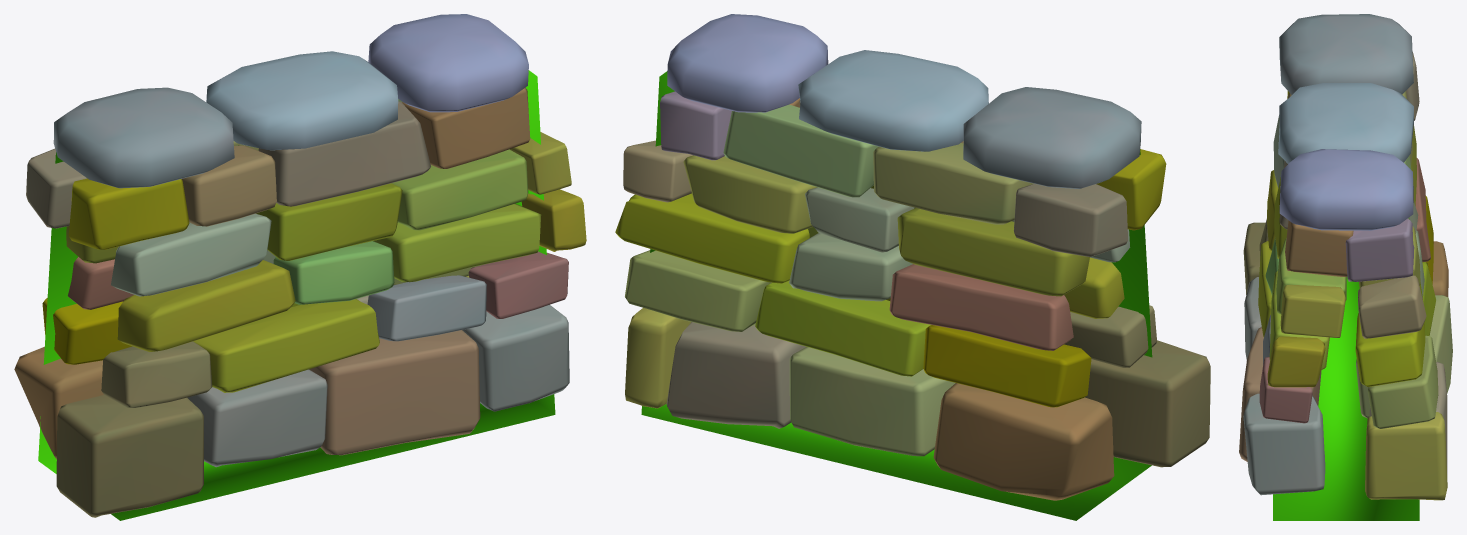
File: SM_Prop_wall_stone_14.glb
3 renders of one model, left to right at view 1: azimuth 30°, elevation 25°; view 2: azimuth 150°, elevation 25°; view 3: azimuth 270°, elevation 25°, orthographic. The views are drawn at different scales.
Visible parts, largest first — view 1: SM_Prop_wall_stone_14; view 2: SM_Prop_wall_stone_14; view 3: SM_Prop_wall_stone_14.
Boxes of the visible parts, box(x1,y1,x2,y2) form: SM_Prop_wall_stone_14: box(14, 14, 586, 520); SM_Prop_wall_stone_14: box(615, 14, 1210, 520); SM_Prop_wall_stone_14: box(1239, 14, 1452, 520).
Size of the model in its own units: 2.28 by 1.58 by 0.934.
